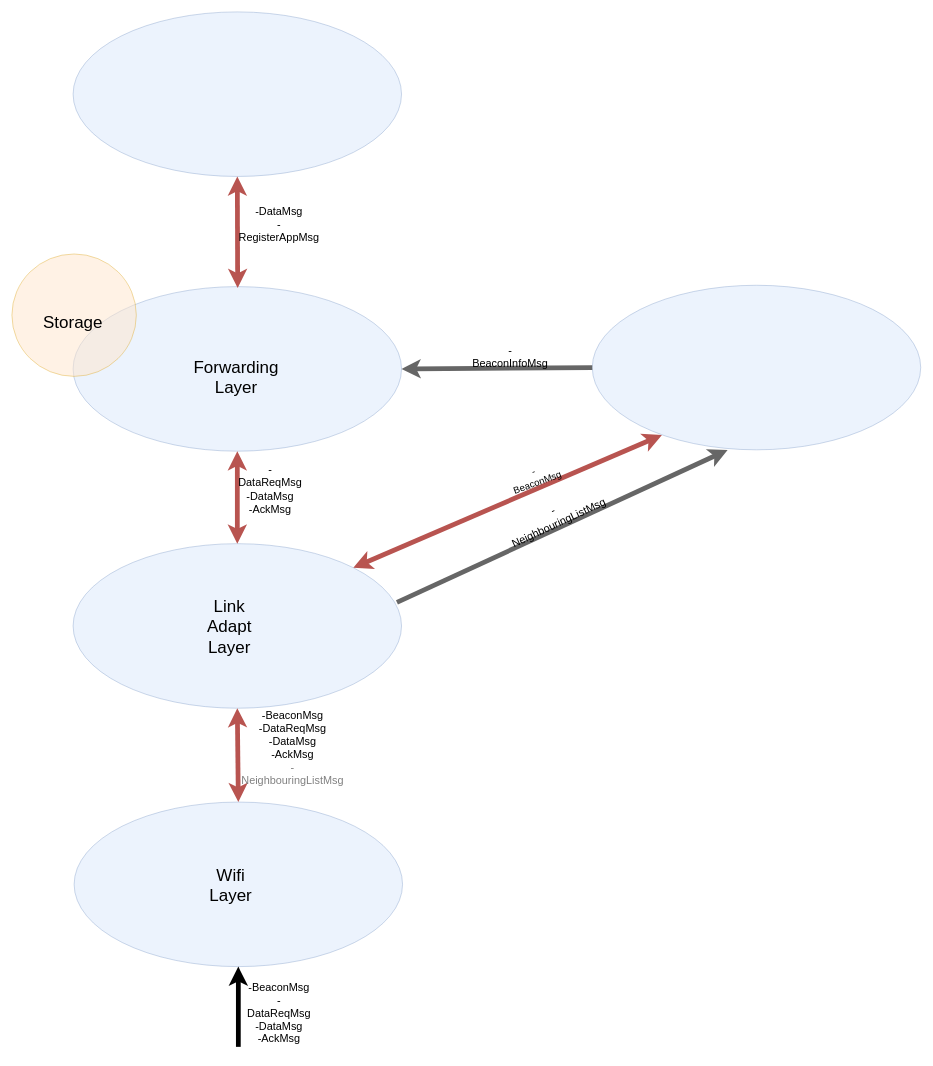
Some shapes in this 933 by 1066 pixel diagram are drawn without their labels. Here are the shapes that lost their labels. From the top down, the centre of each, then its label:
At pixel 237 93: "App Layer".
At pixel 756 367: "Neighboring Layer".
